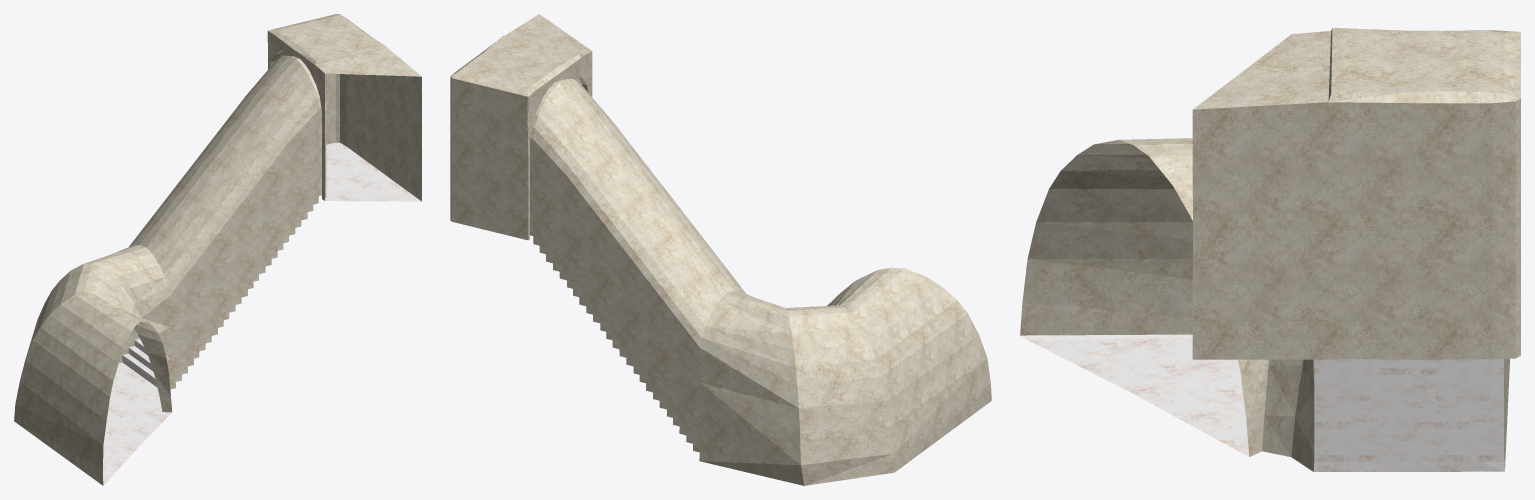
File: thm_tato_assoc_hall_civ_s02_r7_stair2_mesh_r7.fbx
3 renders of one model, left to right at view 1: azimuth 30°, elevation 25°; view 2: azimuth 150°, elevation 25°; view 3: azimuth 270°, elevation 25°, orthographic. The views are drawn at different scales.
Parts seen in each view (by area): view 1: mesh_node; view 2: mesh_node; view 3: mesh_node.
Boxes of the visible parts, box(x1,y1,x2,y2) form: mesh_node: box(14, 14, 421, 485); mesh_node: box(450, 14, 991, 485); mesh_node: box(1020, 28, 1520, 471).
Bounding box in the file's own units: 12.16 × 9.49 × 7.26.
